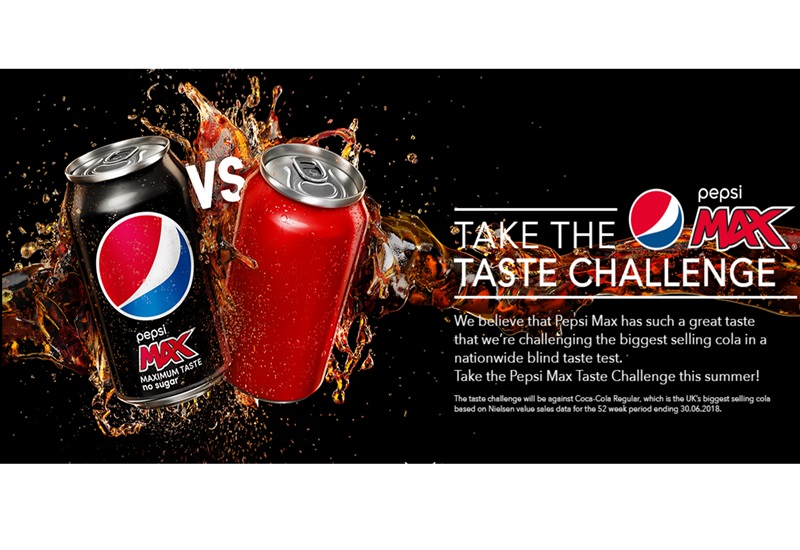pepsi: (85, 214, 189, 317), (96, 214, 189, 317), (626, 186, 683, 248), (629, 186, 683, 248), (629, 190, 683, 248)
